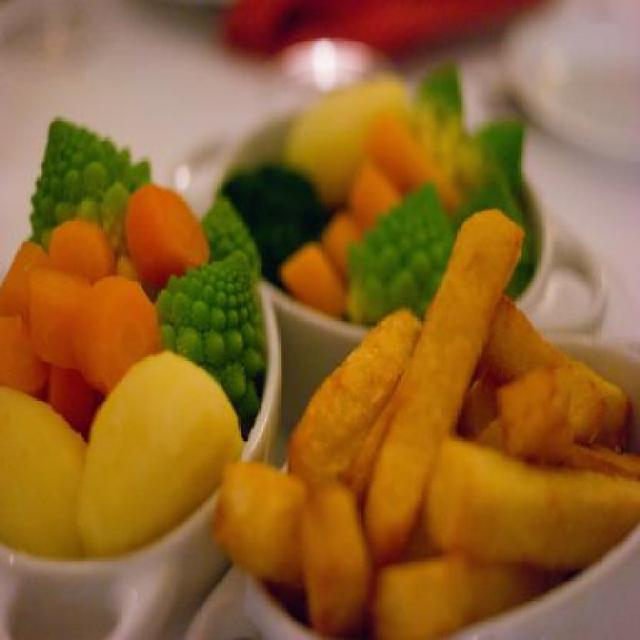Mango: (75, 312, 252, 528)
